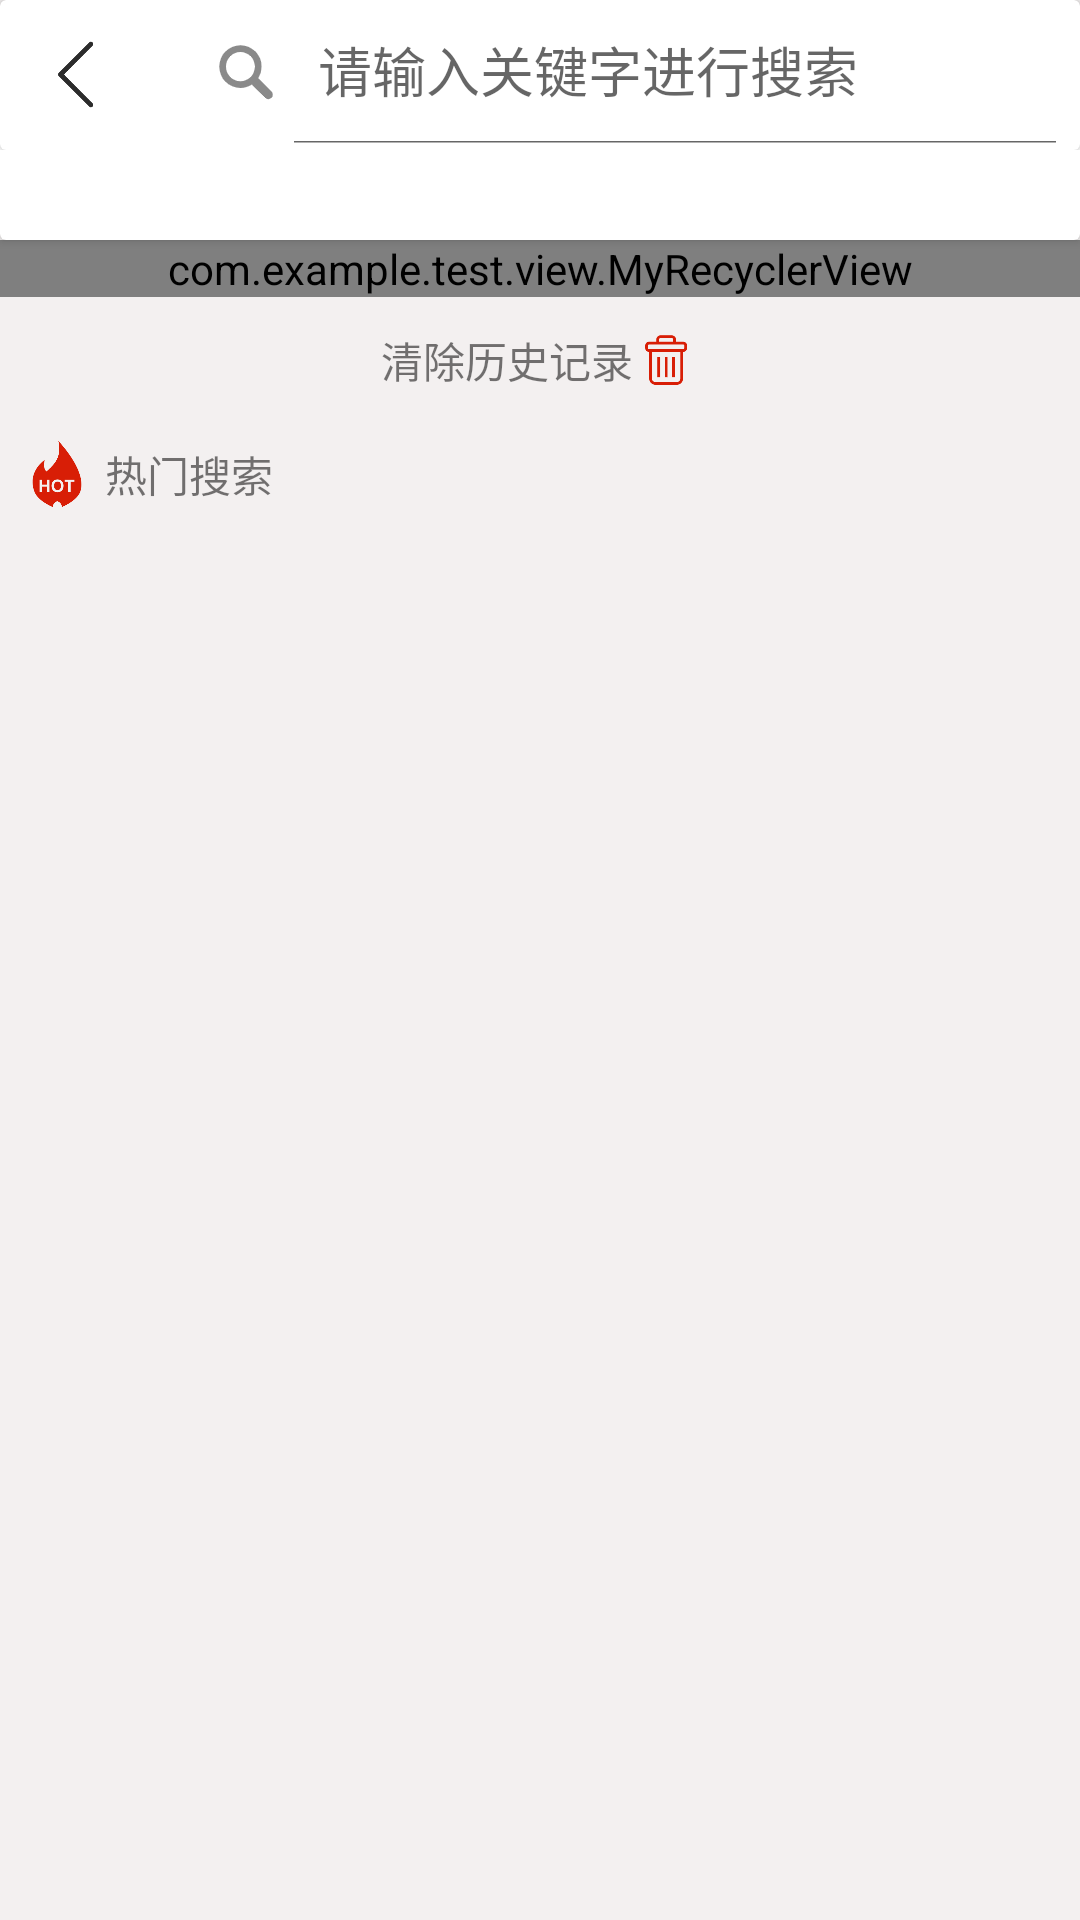

Screen size 1080*1920. Icon name, then its center in pixels as [x,y]:
back: [75,74]
clear all: [666,360]
